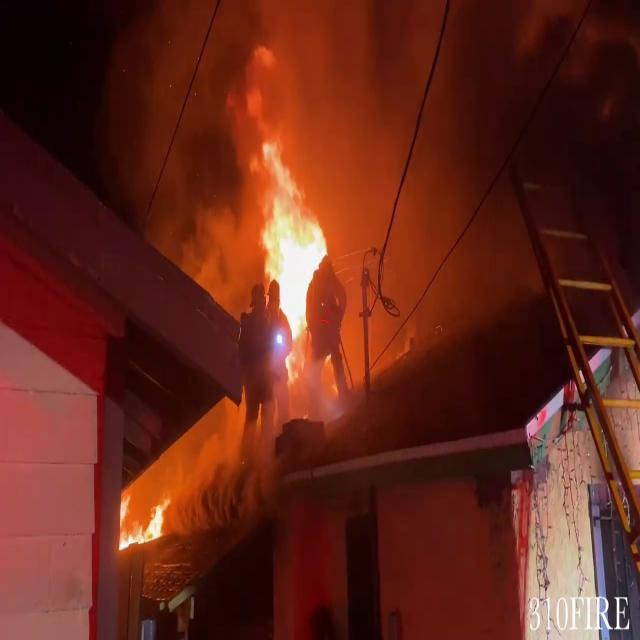Fire: (230, 82, 332, 370), (112, 485, 172, 558)
Smoke: (310, 0, 640, 362)
